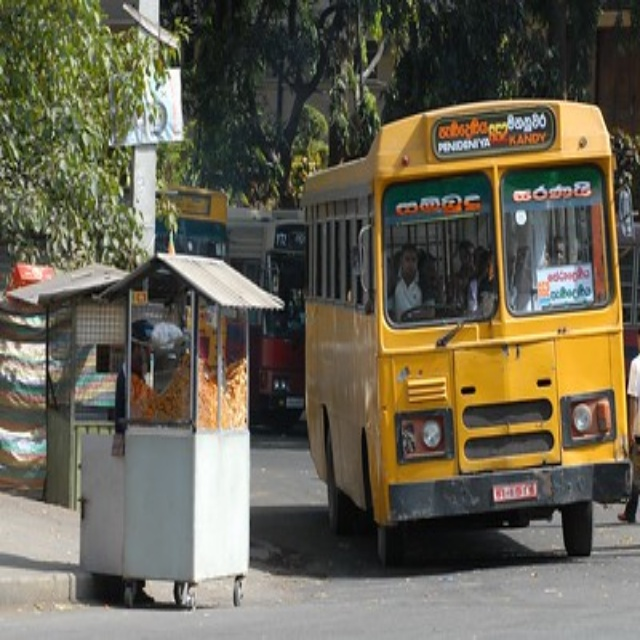Bus: (302, 98, 630, 559)
